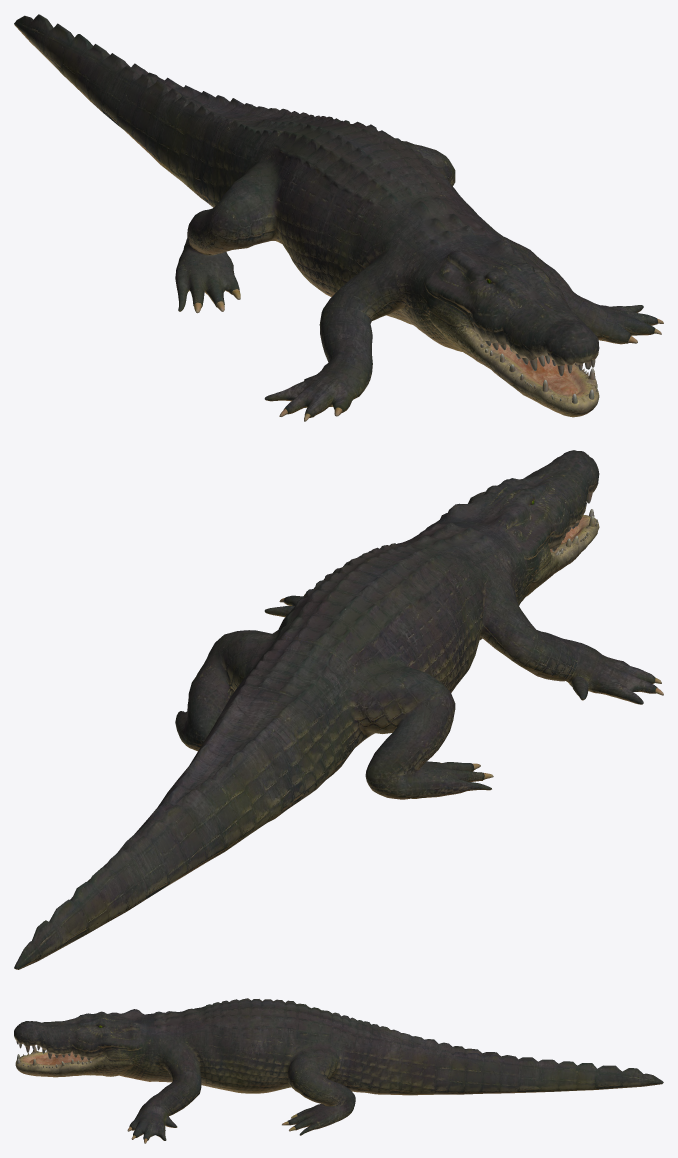
Rendered from crocodile.glb.
The picture shows the model from 3 angles, top to bottom: view 1: azimuth 30°, elevation 25°; view 2: azimuth 150°, elevation 25°; view 3: azimuth 270°, elevation 25°; orthographic projection. The views are drawn at different scales.
Parts seen in each view (by area): view 1: Crocodile; view 2: Crocodile; view 3: Crocodile.
Part boxes in pixels (<box>): Crocodile: <box>14,14,663,421</box>; Crocodile: <box>14,450,663,969</box>; Crocodile: <box>14,998,663,1143</box>.
Size of the model in its own units: 29.13 by 11.33 by 75.12.
1 material, 1 textured.
